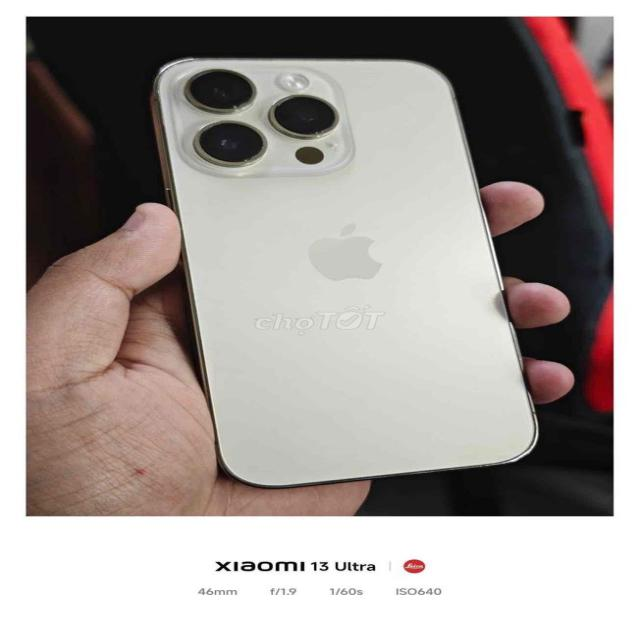gen_14: (139, 47, 542, 499)
